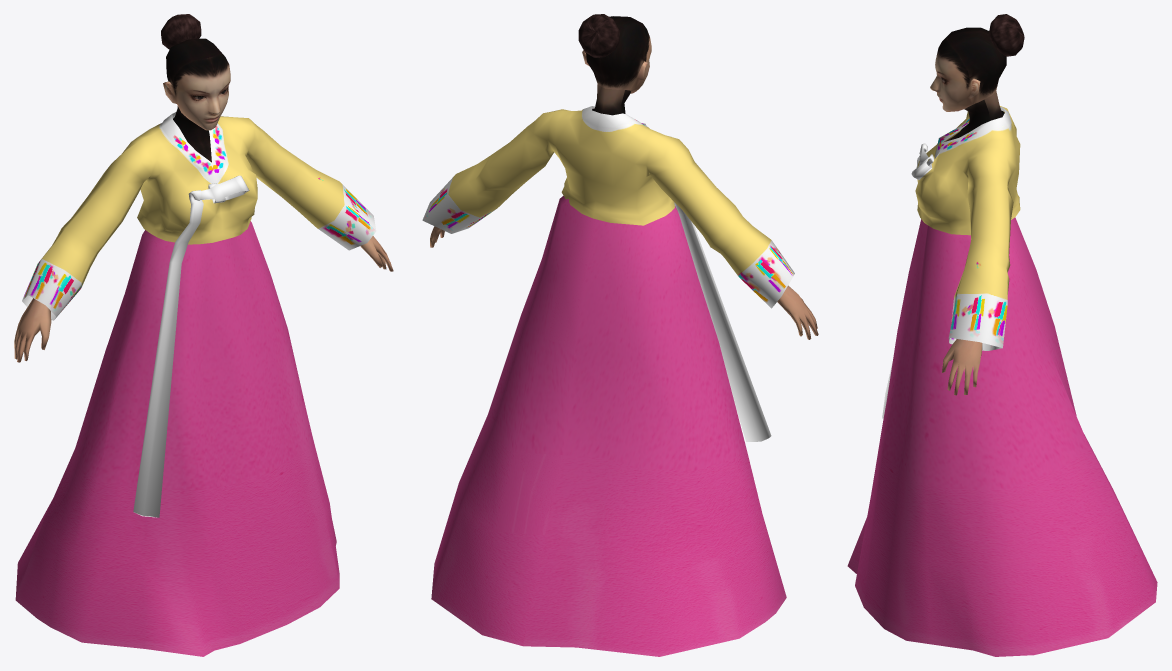
File: woman.fbx
3 renders of one model, left to right at view 1: azimuth 30°, elevation 25°; view 2: azimuth 150°, elevation 25°; view 3: azimuth 270°, elevation 25°, orthographic. The views are drawn at different scales.
Parts seen in each view (by area): view 1: nac_cwc_coe_skt, nac_cwc_coe_cls, nac_cwc_boy, nac_cwc_coe_har; view 2: nac_cwc_coe_skt, nac_cwc_coe_cls, nac_cwc_boy, nac_cwc_coe_har; view 3: nac_cwc_coe_skt, nac_cwc_coe_cls, nac_cwc_boy, nac_cwc_coe_har.
Part boxes in pixels (x1,y1,x2,y2): nac_cwc_coe_skt: (15,221,339,656); nac_cwc_coe_cls: (22,112,376,517); nac_cwc_boy: (14,38,393,362); nac_cwc_coe_har: (161,14,201,49); nac_cwc_coe_skt: (431,196,786,656); nac_cwc_coe_cls: (422,106,794,441); nac_cwc_boy: (430,16,818,339); nac_cwc_coe_har: (578,14,619,57); nac_cwc_coe_skt: (847,217,1157,656); nac_cwc_coe_cls: (882,106,1020,418); nac_cwc_boy: (930,27,1006,395); nac_cwc_coe_har: (989,14,1024,56).
Size of the model in its own units: 11807 by 17414 by 8342.
